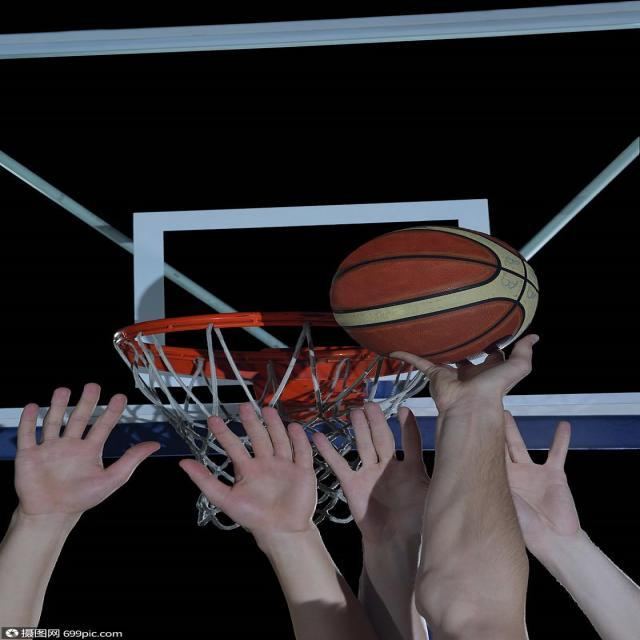rim: (338, 226, 540, 364)
